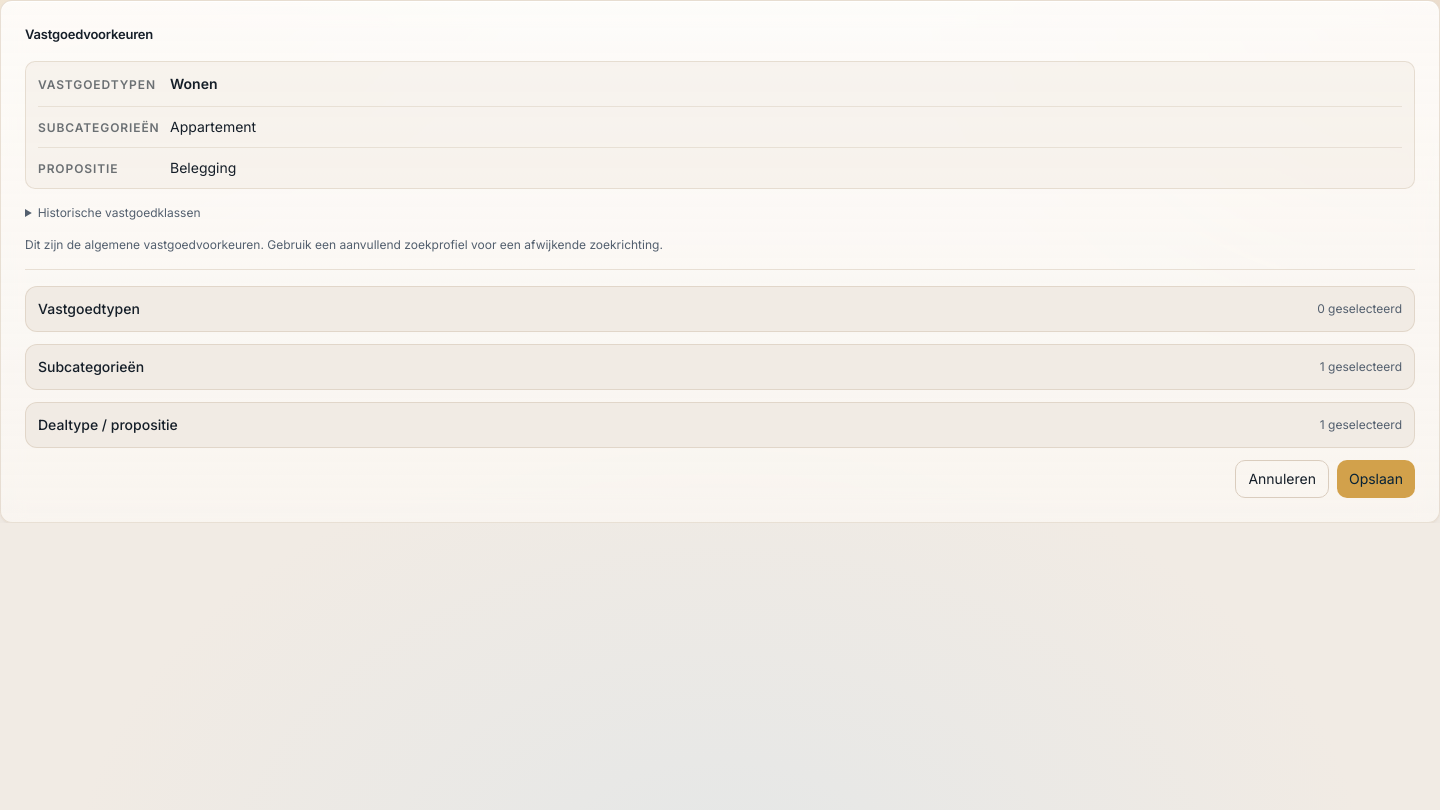
Test: A14 vastgoedtaxonomie rechtstreeks op relatiepagina › verwijdert afhankelijke subtypen niet stilzwijgend bij verwijderen hoofdtype
Earlier steps of the test are not shown.
Click the button "Opslaan" at [1376, 478], box [1337,460,1415,498]
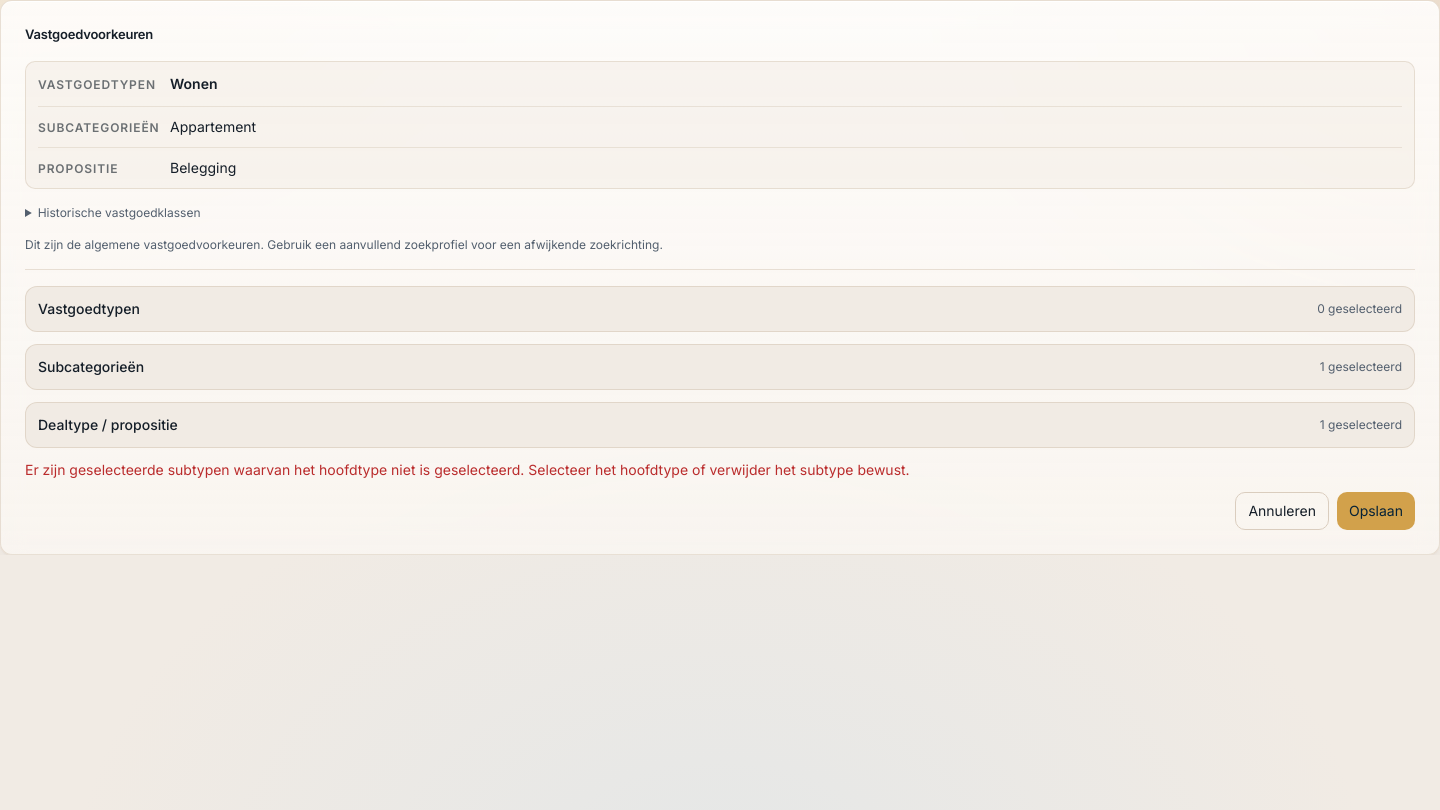
Expected: the message shows "geselecteerde subtypen", [25,460,910,478]
